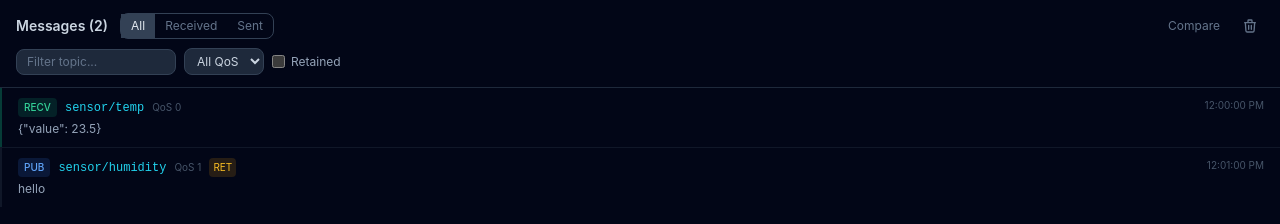
Test: MessageTimeline › filters by direction
Note: Click "Received" filter
Click the button "Received" at (191, 26), box [155,14,227,38]
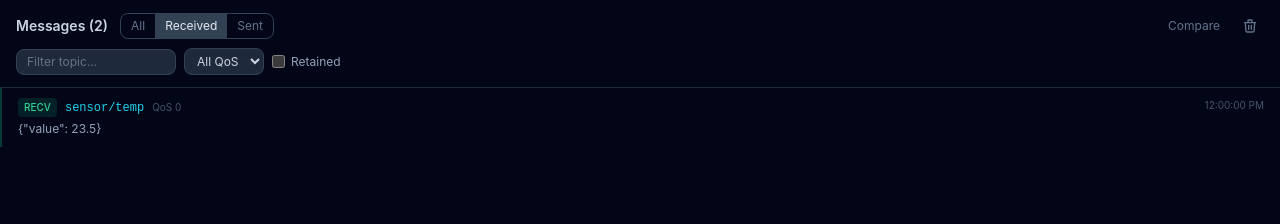
Check: the text "sensor/temp" is shown, box [65,100,144,116]
Check: the text "sensor/humidity" is gone
Note: Click "Sent" filter
Click the button "Sent" at (250, 26), box [227,14,273,38]
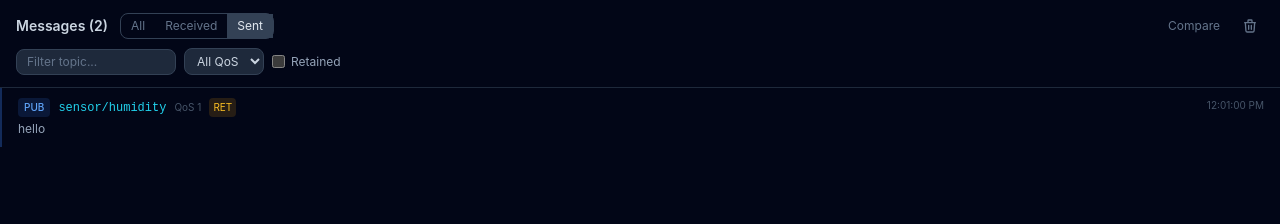
Check: the text "sensor/temp" is gone
Check: the text "sensor/humidity" is shown, box [58,100,166,116]
